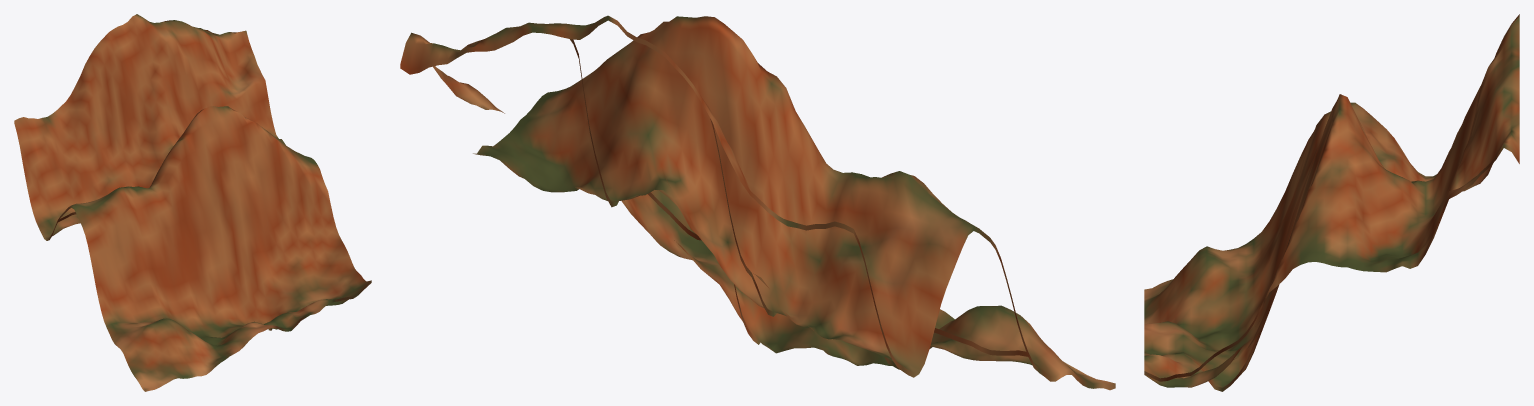
Rendered from terrain-068.glb.
3 renders of one model, left to right at view 1: azimuth 30°, elevation 25°; view 2: azimuth 150°, elevation 25°; view 3: azimuth 270°, elevation 25°, orthographic. The views are drawn at different scales.
Parts seen in each view (by area): view 1: terrain-068; view 2: terrain-068; view 3: terrain-068.
Boxes of the visible parts, x1=… form: terrain-068: x1=14, y1=14, x2=371, y2=391; terrain-068: x1=400, y1=15, x2=1115, y2=390; terrain-068: x1=1144, y1=14, x2=1519, y2=391.
Bounding box in the file's own units: 384 × 409 × 384.
